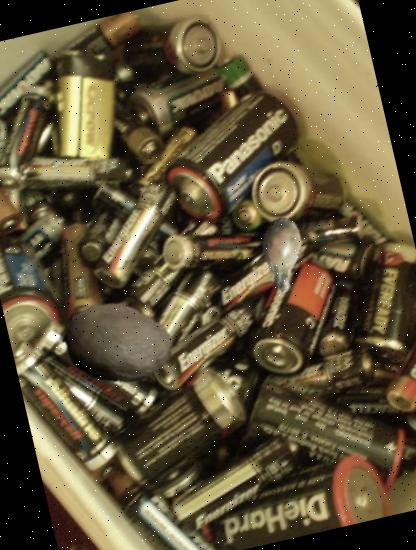Cactus: (236, 209, 326, 300)
Papaya: (55, 282, 182, 409)
